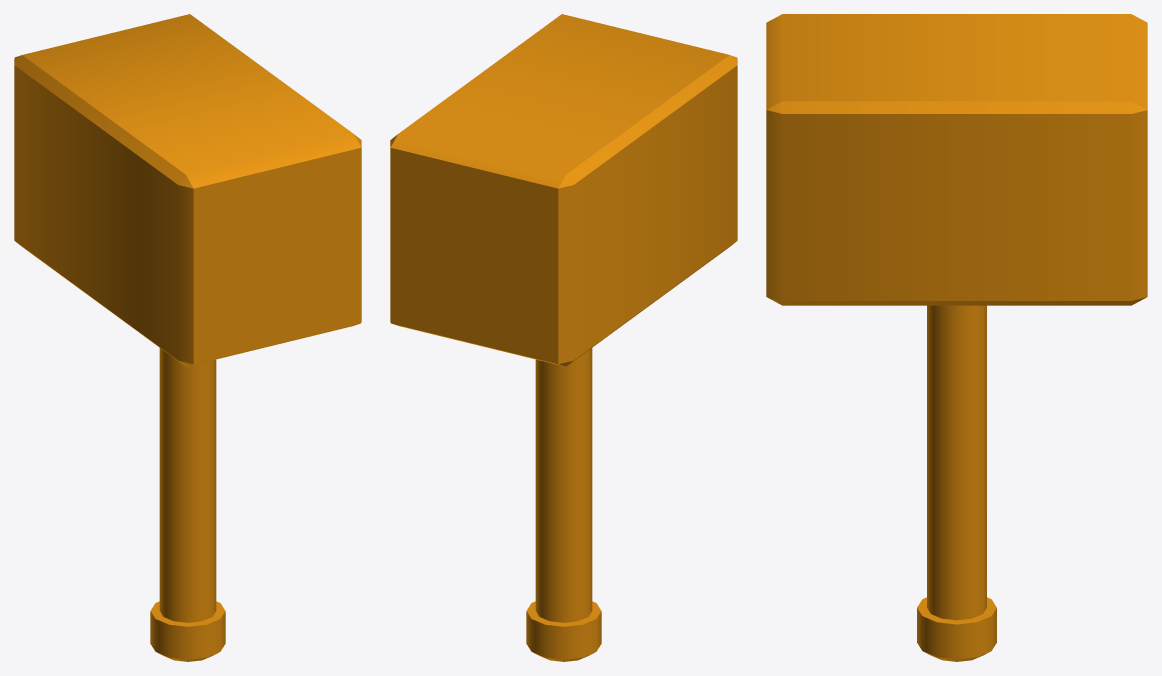
Rendered from WeaponCube.fbx.
3 renders of one model, left to right at view 1: azimuth 30°, elevation 25°; view 2: azimuth 150°, elevation 25°; view 3: azimuth 270°, elevation 25°, orthographic. The views are drawn at different scales.
Visible parts, largest first — view 1: Weapon_Cube; view 2: Weapon_Cube; view 3: Weapon_Cube.
Part boxes in pixels (x1=…): Weapon_Cube: x1=14, y1=14, x2=361, y2=661; Weapon_Cube: x1=390, y1=14, x2=737, y2=661; Weapon_Cube: x1=766, y1=14, x2=1147, y2=661.
Size of the model in its own units: 14.05 by 40.64 by 23.74.
